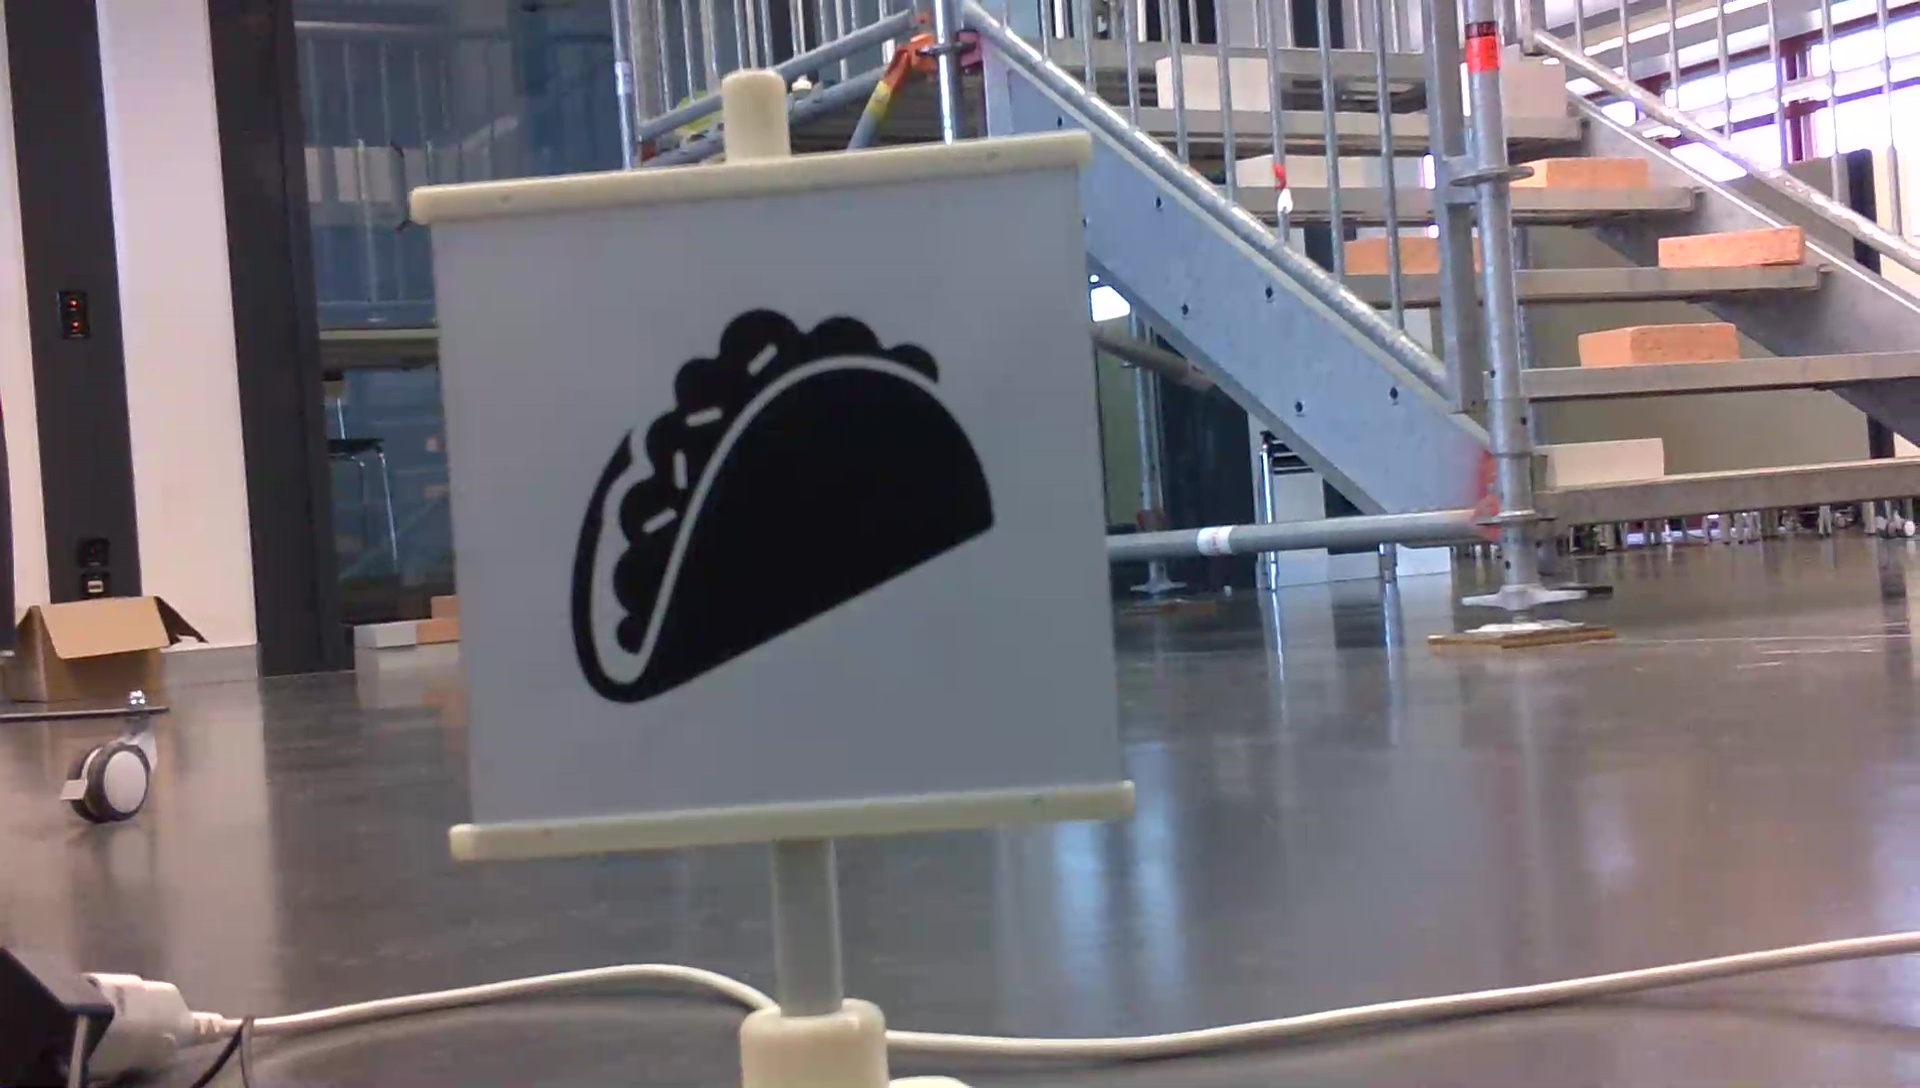brick: (1580, 323, 1733, 361), (1544, 437, 1663, 481), (1660, 226, 1800, 262), (1501, 61, 1565, 119), (1526, 156, 1646, 186)
edge: (1540, 460, 1917, 522), (1527, 346, 1917, 396)
taco: (555, 298, 1007, 708)
